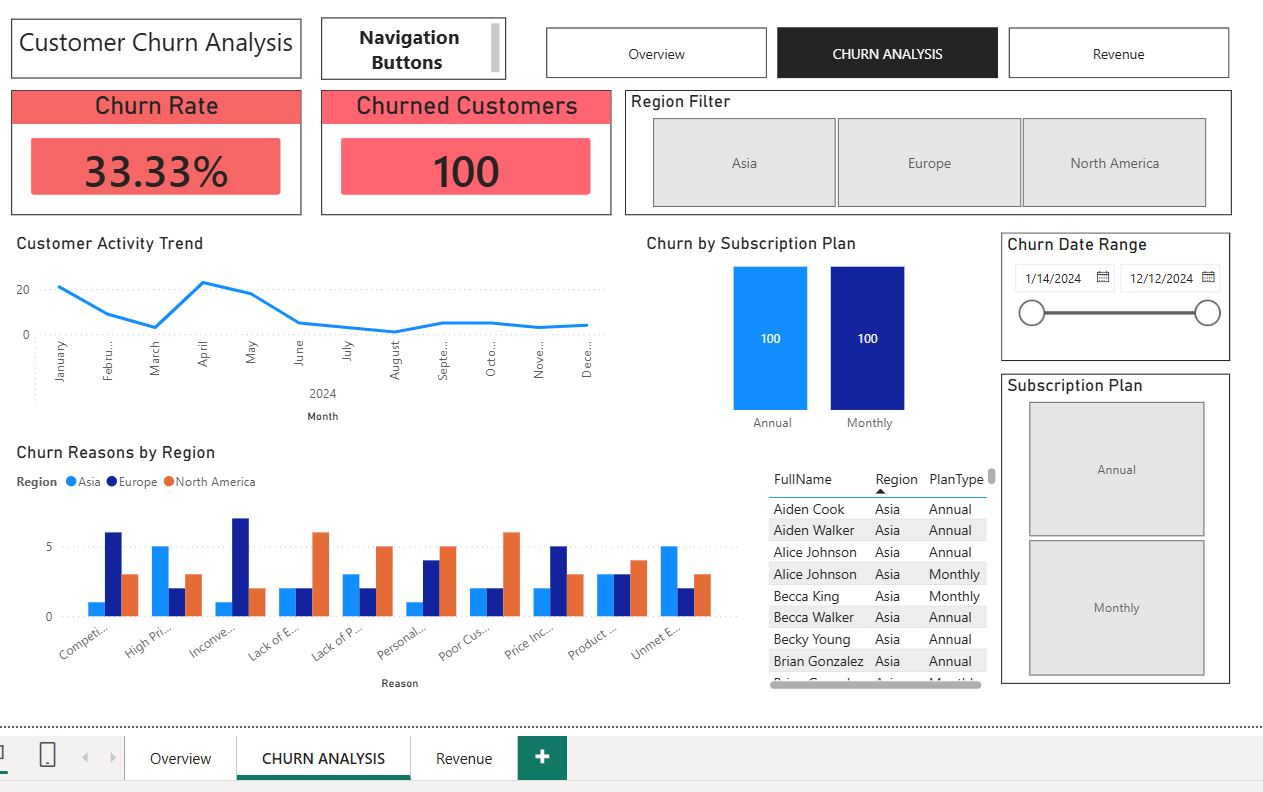

The page's visual inventory and layout, read from the dashboard file:
{"tool":"powerbi","page":{"name":"CHURN ANALYSIS","canvas":[1280,720],"ordinal":1},"visuals":[{"type":"cardVisual","title":"Churn Rate","fields":{"Data":["Churn.Churn Rate"]},"box":[20.6,105.7,279.9,120.8],"z":0},{"type":"cardVisual","title":"Churned Customers","fields":{"Data":["Churn.Churned Customers"]},"box":[319.7,105.7,279.9,120.8],"z":1000},{"type":"clusteredColumnChart","title":"Churn Reasons by Region","fields":{"Category":["Churn.Reason"],"Y":["CountNonNull(Churn.ChurnID)"],"Series":["Customers.Region"]},"box":[20.5,445.2,705.8,244.9],"z":2000},{"type":"lineChart","title":"Customer Activity Trend","fields":{"Category":["Churn.ChurnDate.Variation.Date Hierarchy.Year","Churn.ChurnDate.Variation.Date Hierarchy.Month","Churn.ChurnDate"],"Y":["CountNonNull(Churn.CustomerID)"]},"box":[20.5,243.7,579.1,188.2],"z":3000},{"type":"columnChart","title":"Churn by Subscription Plan","fields":{"Category":["Subscriptions.PlanType"],"Y":["CountNonNull(Churn.ChurnID)"],"Series":["Subscriptions.PlanType"]},"box":[628.6,243.7,347.5,201.5],"z":4000},{"type":"tableEx","fields":{"Values":["Customers.FullName","Customers.Region","Subscriptions.PlanType"]},"box":[745.6,465.7,230.4,224.4],"z":5000},{"type":"slicer","title":"Region Filter","fields":{"Values":["Customers.Region"]},"box":[613.4,105.7,585.9,120.8],"z":6000},{"type":"slicer","title":"Subscription Plan","fields":{"Values":["Subscriptions.PlanType"]},"box":[976,380,220.8,299.2],"z":7000},{"type":"slicer","title":"Churn Date Range","fields":{"Values":["Churn.ChurnDate"]},"box":[976,243.7,220.8,124.3],"z":8000},{"type":"textbox","box":[20.6,37,279.9,57.6],"z":9000},{"type":"textbox","box":[319.7,36.2,178.6,60.3],"z":10000},{"type":"pageNavigator","box":[536.9,45.8,659.9,49.5],"z":11000}]}

Visuals, with their boxes on the page's 1280x720 design canvas (x1, y1, x2, y2). These are canvas units, not pixel positions in the 1263x792 screenshot, which may show the page scaled, cropped or inside an application window:
"Churn Rate" cardVisual: bbox=(21, 106, 300, 226)
"Churned Customers" cardVisual: bbox=(320, 106, 600, 226)
"Churn Reasons by Region" clusteredColumnChart: bbox=(20, 445, 726, 690)
"Customer Activity Trend" lineChart: bbox=(20, 244, 600, 432)
"Churn by Subscription Plan" columnChart: bbox=(629, 244, 976, 445)
tableEx - Customers.FullName x Customers.Region: bbox=(746, 466, 976, 690)
"Region Filter" slicer: bbox=(613, 106, 1199, 226)
"Subscription Plan" slicer: bbox=(976, 380, 1197, 679)
"Churn Date Range" slicer: bbox=(976, 244, 1197, 368)
textbox: bbox=(21, 37, 300, 95)
textbox: bbox=(320, 36, 498, 96)
pageNavigator: bbox=(537, 46, 1197, 95)
